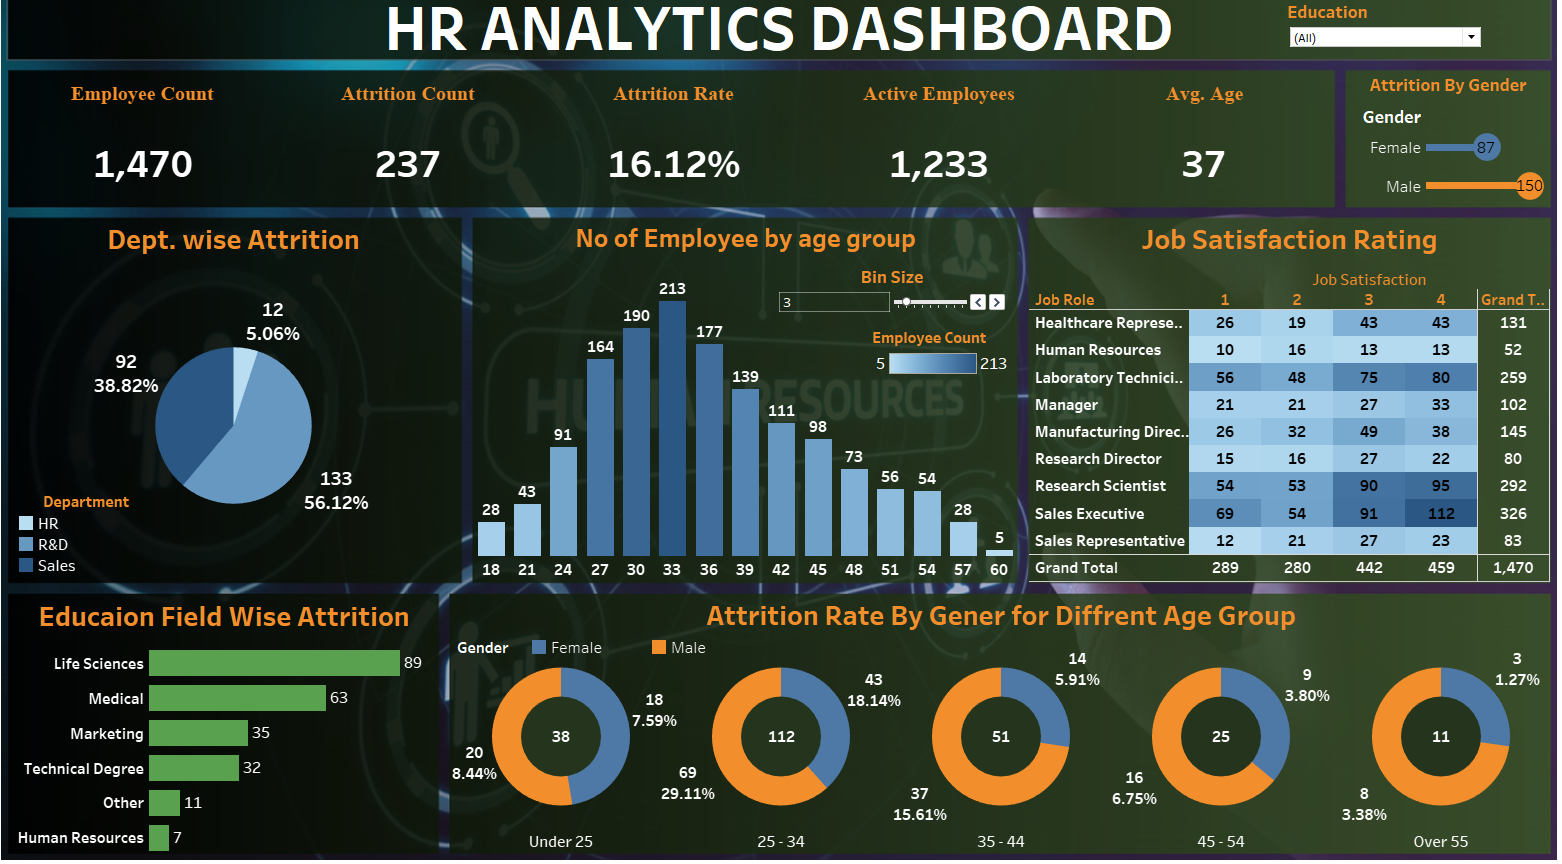

This screenshot's page, from the dashboard's own definition file:
{"tool":"tableau","page":{"name":"Dashboard 1","canvas":[1580,900],"ordinal":0},"visuals":[{"type":"image","param":"Image/HR background.png","box":[8,8,1564,884]},{"type":"text","box":[19,19,1542,67]},{"type":"filter","title":"Dept. wise Attrition","param":"[federated.1hxtxw41m2ur3017ujs9b1wa0144].[none:Education:nk]","box":[1298,27,197,59]},{"type":"worksheet","title":"KPI","mark":"Automatic","box":[21,97,1327,136]},{"type":"worksheet","title":"Attrition By Gender","mark":"Automatic","rows":["Gender"],"cols":["Calculation_332703429233037312","Calculation_332703429233037312"],"box":[1357,97,204,135]},{"type":"worksheet","title":"Dept. wise Attrition","mark":"Pie","box":[18,244,453,365]},{"type":"worksheet","title":"No of Employee by age group","mark":"Automatic","rows":["Employee Count"],"cols":["Age (bin)"],"box":[484,244,545,364]},{"type":"worksheet","title":"Job Satisfaction Rating","mark":"Square","rows":["Job Role"],"cols":["Job Satisfaction"],"box":[1040,244,521,365]},{"type":"parameter","param":"[Parameters].[Parameter 1]","box":[787,292,232,57]},{"type":"legend","title":"No of Employee by age group","param":"[federated.1hxtxw41m2ur3017ujs9b1wa0144].[sum:Employee Count:qk]","box":[883,354,140,53]},{"type":"legend","title":"Dept. wise Attrition","param":"[federated.1hxtxw41m2ur3017ujs9b1wa0144].[none:Department:nk]","box":[27,518,140,85]},{"type":"worksheet","title":"Attrition Rate By Gener for Diffrent Age Group","mark":"Pie","rows":["Calculation_332703429319806981","Calculation_332703429319806981"],"cols":["CF_age band"],"box":[462,620,1100,260]},{"type":"worksheet","title":"Educaion Field Wise Attrition","mark":"Automatic","rows":["Education Field"],"cols":["Calculation_332703429233037312"],"box":[20,621,430,261]},{"type":"legend","title":"Attrition Rate By Gener for Diffrent Age Group","param":"[federated.1hxtxw41m2ur3017ujs9b1wa0144].[none:Gender:nk]","box":[468,664,318,23]}]}

Visuals, with their boxes in screenshot pixels (x1, y1, x2, y2), scaled from the page's 1580x900 canvas onto the 1562x864 screenshot:
image: {"left": 8, "top": 8, "right": 1554, "bottom": 856}
text: {"left": 19, "top": 18, "right": 1543, "bottom": 83}
"Dept. wise Attrition" filter: {"left": 1283, "top": 26, "right": 1478, "bottom": 83}
"KPI" worksheet: {"left": 21, "top": 93, "right": 1333, "bottom": 224}
"Attrition By Gender" worksheet: {"left": 1342, "top": 93, "right": 1543, "bottom": 223}
"Dept. wise Attrition" worksheet (Pie marks): {"left": 18, "top": 234, "right": 466, "bottom": 585}
"No of Employee by age group" worksheet: {"left": 478, "top": 234, "right": 1017, "bottom": 584}
"Job Satisfaction Rating" worksheet (Square marks): {"left": 1028, "top": 234, "right": 1543, "bottom": 585}
parameter: {"left": 778, "top": 280, "right": 1007, "bottom": 335}
"No of Employee by age group" legend: {"left": 873, "top": 340, "right": 1011, "bottom": 391}
"Dept. wise Attrition" legend: {"left": 27, "top": 497, "right": 165, "bottom": 579}
"Attrition Rate By Gener for Diffrent Age Group" worksheet (Pie marks): {"left": 457, "top": 595, "right": 1544, "bottom": 845}
"Educaion Field Wise Attrition" worksheet: {"left": 20, "top": 596, "right": 445, "bottom": 847}
"Attrition Rate By Gener for Diffrent Age Group" legend: {"left": 463, "top": 637, "right": 777, "bottom": 660}
